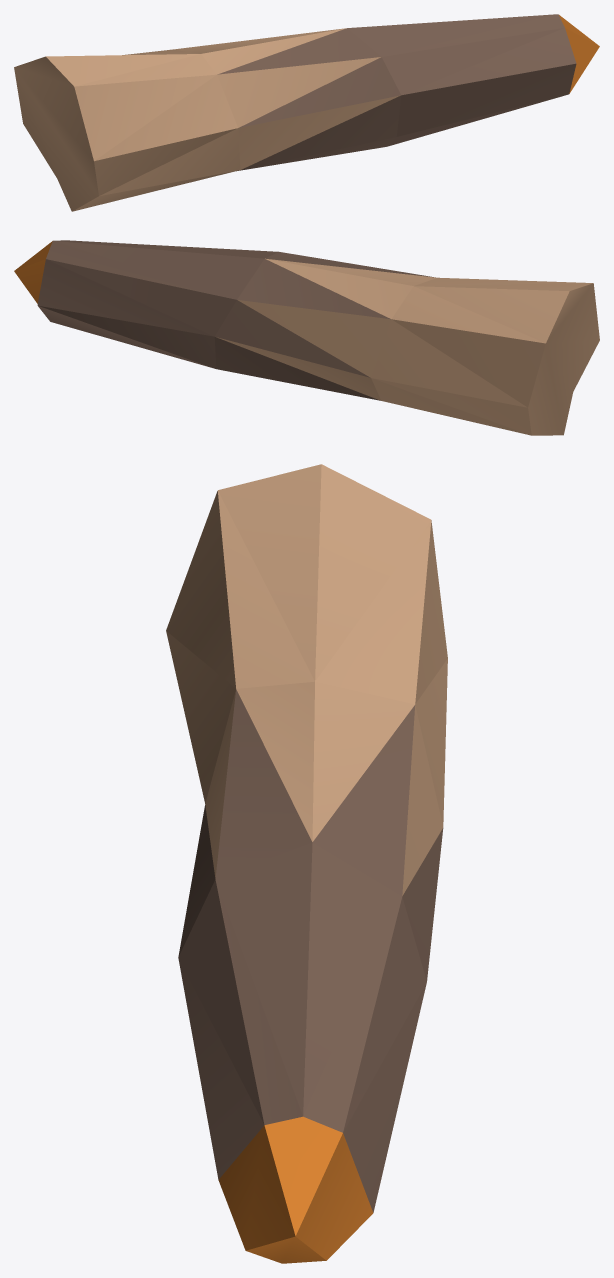
Rendered from barroboy brazo.fbx.
3 renders of one model, top to bottom at view 1: azimuth 30°, elevation 25°; view 2: azimuth 150°, elevation 25°; view 3: azimuth 270°, elevation 25°, orthographic. The views are drawn at different scales.
Parts seen in each view (by area): view 1: Barroboy brazo; view 2: Barroboy brazo; view 3: Barroboy brazo.
Boxes of the visible parts, x1,y1,x2,y2 form: Barroboy brazo: (14,14,599,211); Barroboy brazo: (14,240,599,435); Barroboy brazo: (166,464,447,1263).
Bounding box in the file's own units: 214 × 60.42 × 47.22.
